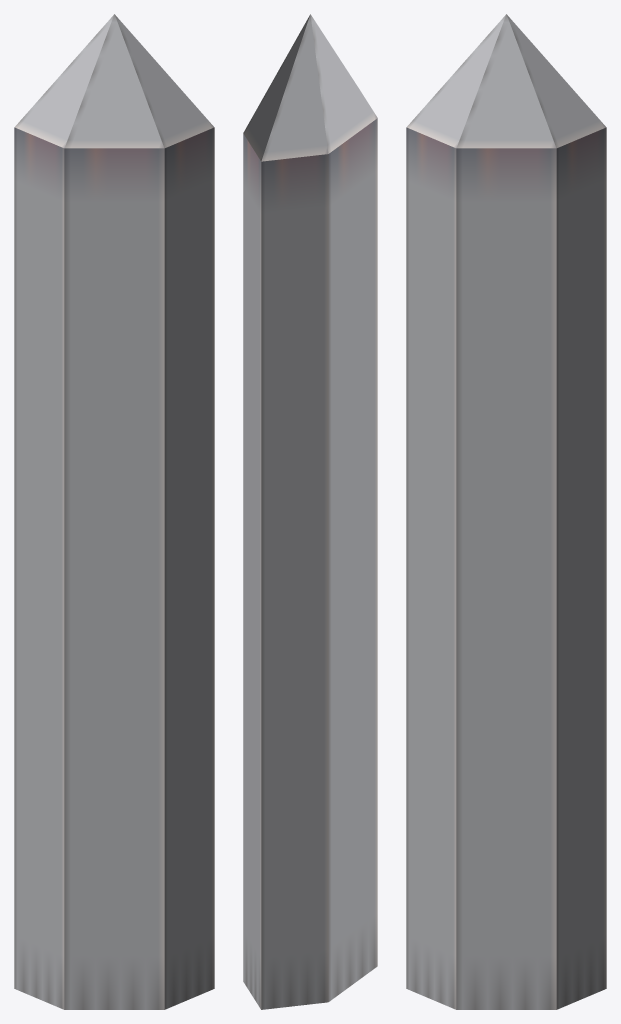
Rendered from sword_blade.obj.
3 views of the same model, side by side, from view 1: azimuth 90°, elevation 25°; view 2: azimuth 150°, elevation 25°; view 3: azimuth 270°, elevation 25° (orthographic).
Parts seen in each view (by area): view 1: sword_blade; view 2: sword_blade; view 3: sword_blade.
Boxes of the visible parts, x1,y1,x2,y2 form: sword_blade: (14,14,214,1009); sword_blade: (243,14,377,1009); sword_blade: (406,14,606,1009).
Bounding box in the file's own units: 1 × 10.75 × 2.
1 material, 1 textured.
